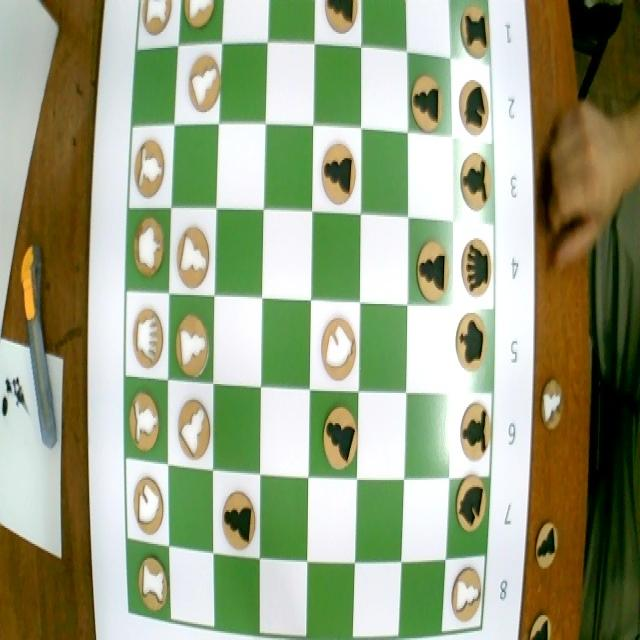chess-pieces: (311, 301, 359, 390), (316, 129, 361, 213), (313, 394, 360, 473), (217, 479, 259, 560), (169, 302, 211, 380), (412, 224, 451, 302), (129, 206, 165, 290), (408, 58, 444, 140), (174, 389, 211, 468), (172, 219, 212, 291), (453, 306, 491, 380), (131, 466, 168, 540), (131, 132, 169, 204), (128, 299, 164, 375), (454, 391, 491, 464), (446, 556, 484, 624), (455, 234, 493, 301), (453, 3, 493, 66), (134, 551, 172, 616), (450, 471, 488, 536), (456, 152, 493, 218), (455, 75, 493, 139), (127, 387, 161, 457), (186, 57, 223, 111), (317, 0, 361, 41), (181, 0, 219, 44), (139, 0, 174, 45)
